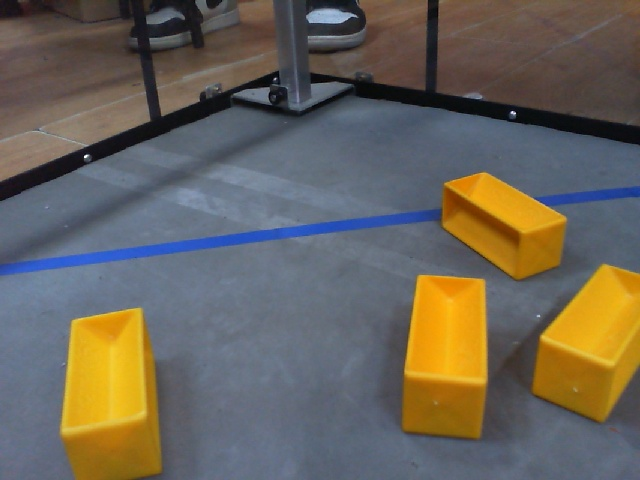YellowSample: (57, 306, 171, 480), (529, 259, 640, 426), (396, 270, 495, 439), (434, 165, 570, 282)
